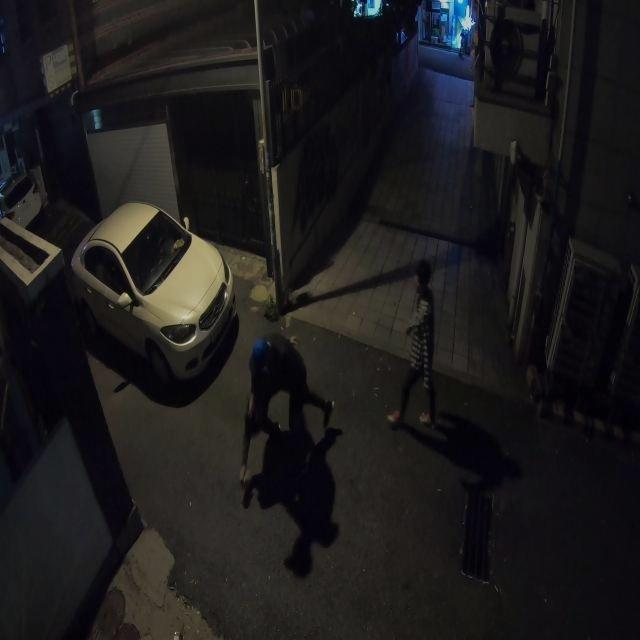fight: (239, 330, 336, 491)
non-fight: (388, 260, 437, 427)
